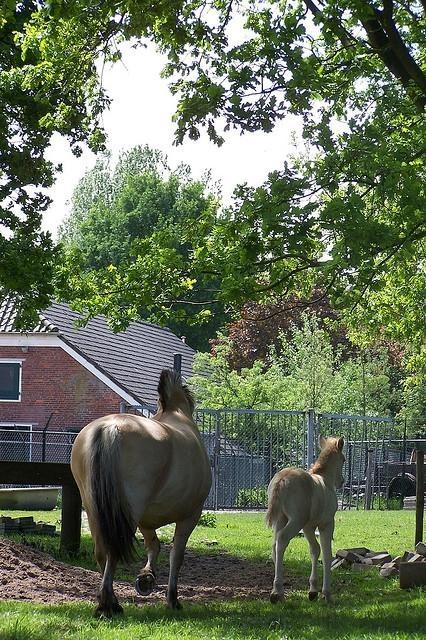car: (386, 471, 416, 499)
